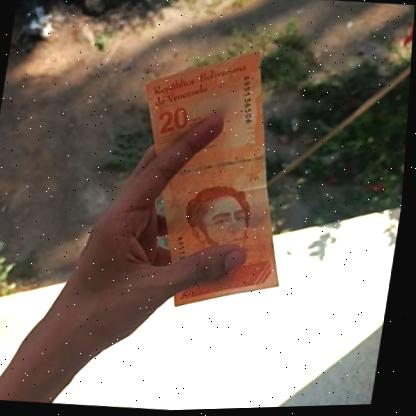twenty-front-vef: (114, 42, 317, 320)
